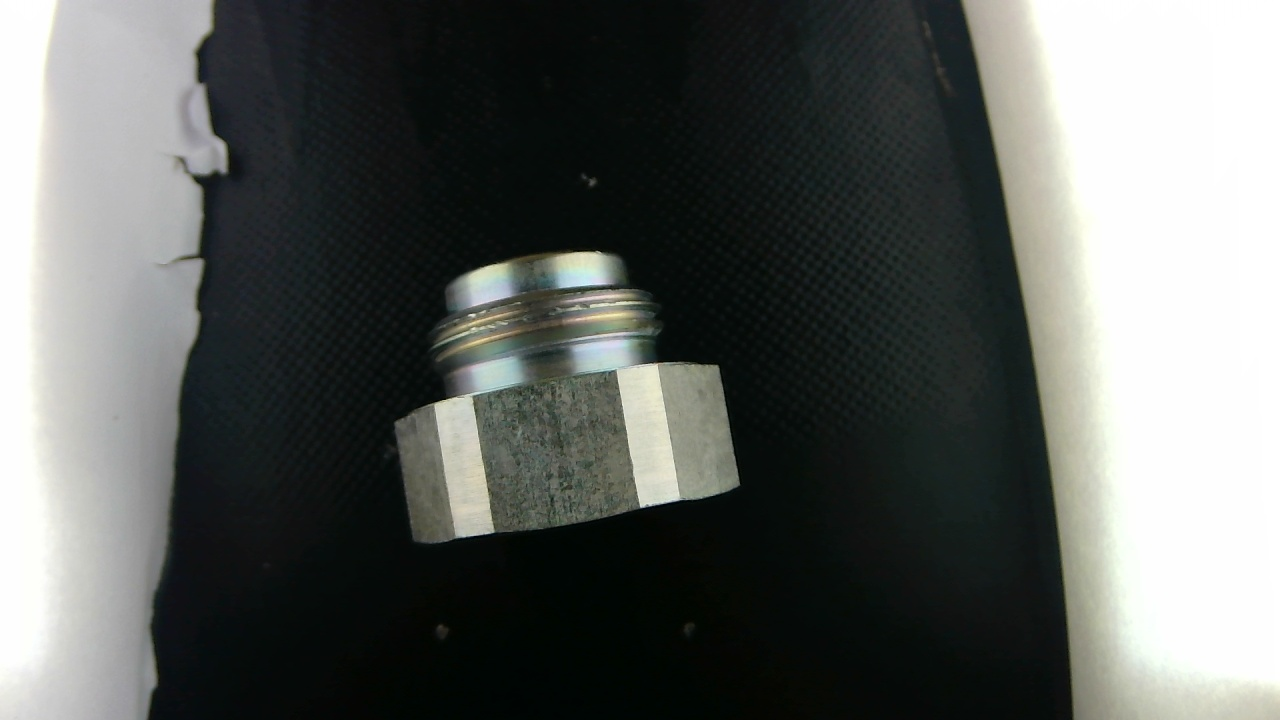Capnut_Surface_Dent: (594, 249, 603, 258)
